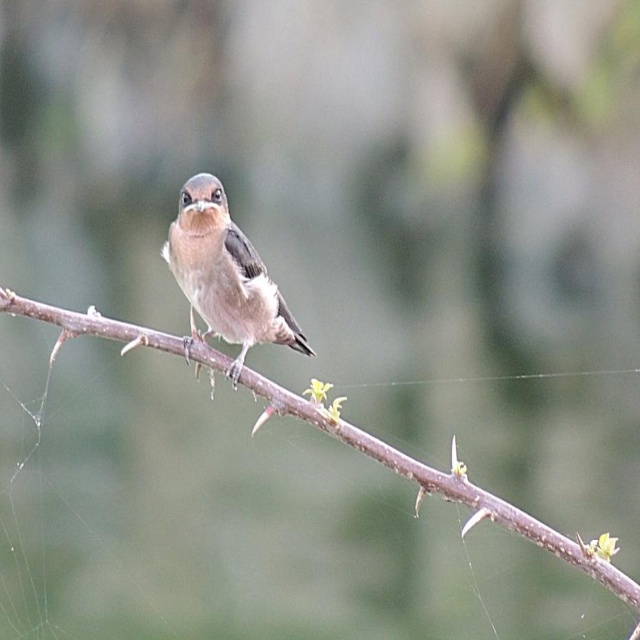Sparrow: (163, 172, 313, 387)
